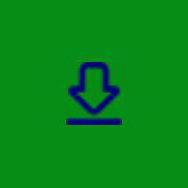ImgButton: (1, 1, 187, 187)
